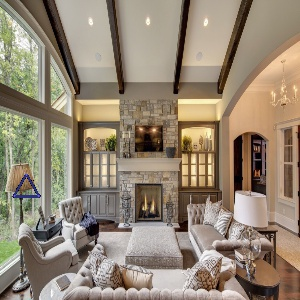triangle: (11, 173, 43, 198)
